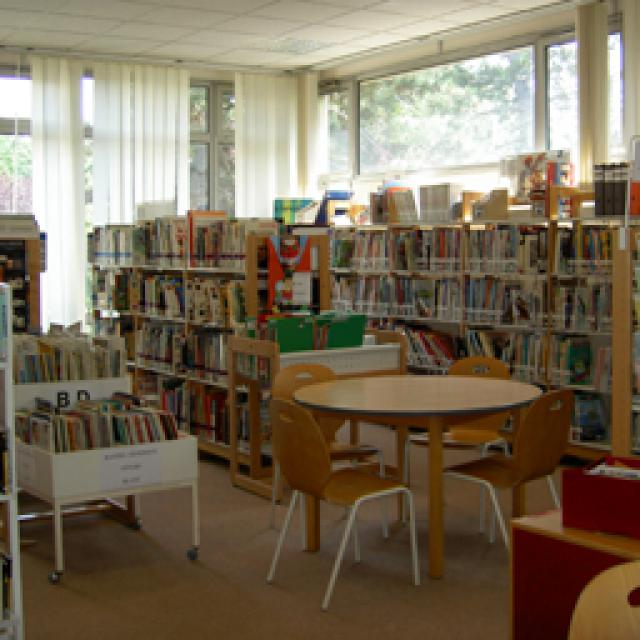2001: (0, 75, 285, 222), (355, 42, 530, 175)
books crop: (5, 388, 175, 448), (468, 222, 542, 272), (465, 275, 542, 322), (352, 272, 428, 315), (552, 222, 612, 272), (185, 272, 242, 322), (132, 318, 180, 370), (125, 270, 180, 315), (188, 222, 245, 265), (590, 160, 628, 215), (345, 225, 388, 265), (418, 180, 462, 218), (428, 222, 458, 268), (92, 225, 130, 260), (432, 272, 458, 315)
chair -occluded-: (262, 398, 420, 608)
chair part: (442, 388, 570, 548)
curtain crop: (90, 55, 188, 225), (30, 48, 80, 335), (232, 68, 298, 218)
floor -X: (0, 345, 638, 638)
shelves crop: (332, 218, 635, 465), (80, 222, 332, 468)
stand clothes: (225, 325, 405, 495)
table runner: (288, 370, 540, 572)
trolley: (2, 415, 198, 578)
wall clock: (298, 0, 638, 385), (0, 48, 305, 395)
